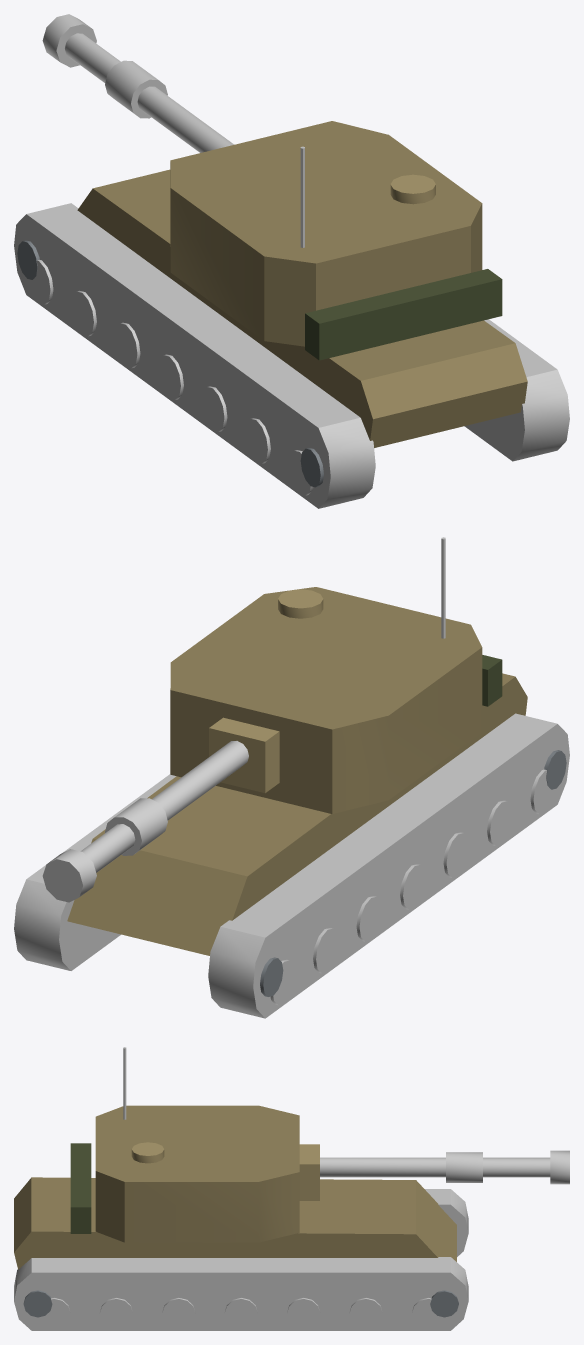
The model's file is sph2.obj.
3 renders of one model, top to bottom at view 1: azimuth 30°, elevation 25°; view 2: azimuth 150°, elevation 25°; view 3: azimuth 270°, elevation 25°, orthographic. The views are drawn at different scales.
Visible parts, largest first — view 1: model; view 2: model; view 3: model.
Part boxes in pixels (x1,y1,x2,y2): model: [14, 14, 569, 508]; model: [14, 537, 569, 1018]; model: [14, 1047, 569, 1330].
Bounding box in the file's own units: 3.5 × 4.1 × 9.54.
